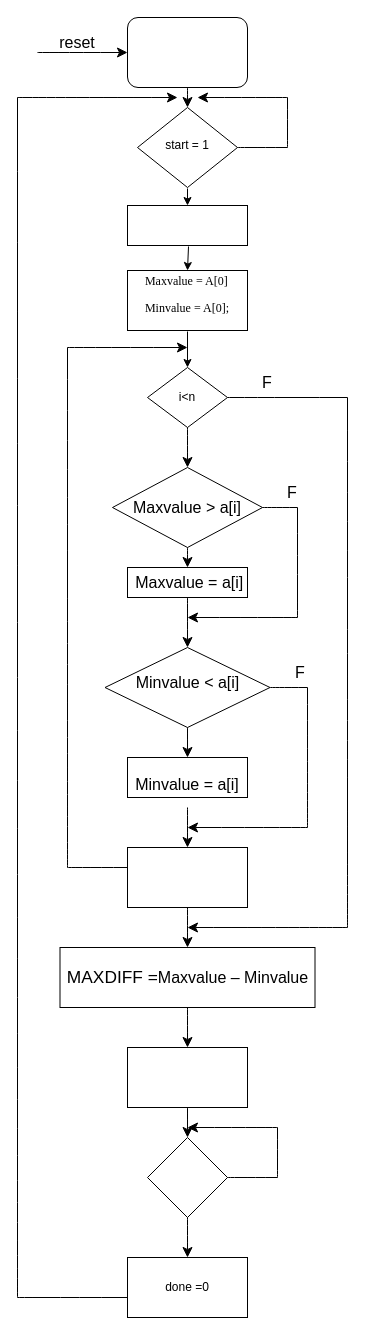
Some shapes in this 366 by 1335 pixel diagram are drawn without their labels. The shapes that lost their labels are listed below. From the top down, each one's centre as x and y in pixels, then its label:
At point 187,52: "reset all res done = '0'".
At point 187,225: "i=0".
At point 187,877: "i++".
At point 187,1077: "done =1".
At point 187,1177: "start = 0".
